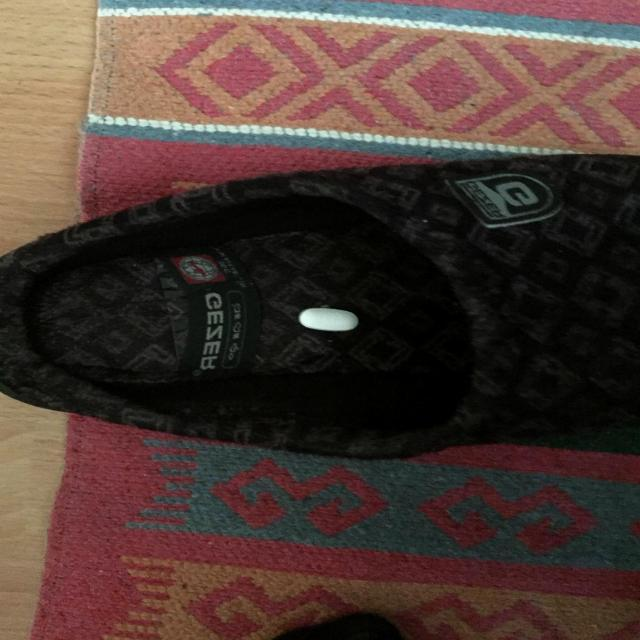pill: (296, 300, 362, 336)
